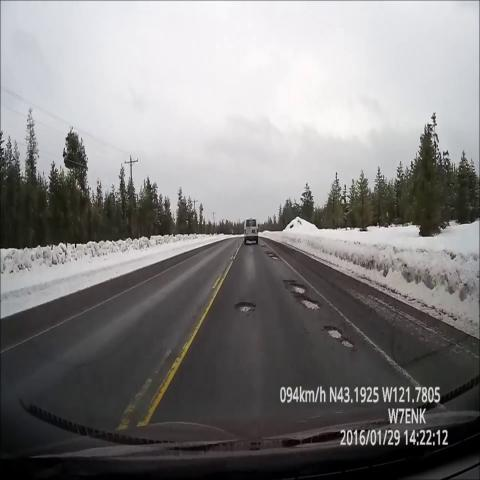pothole: (286, 270, 324, 320), (326, 319, 354, 357), (231, 296, 256, 320), (265, 249, 280, 267), (260, 239, 268, 254)
